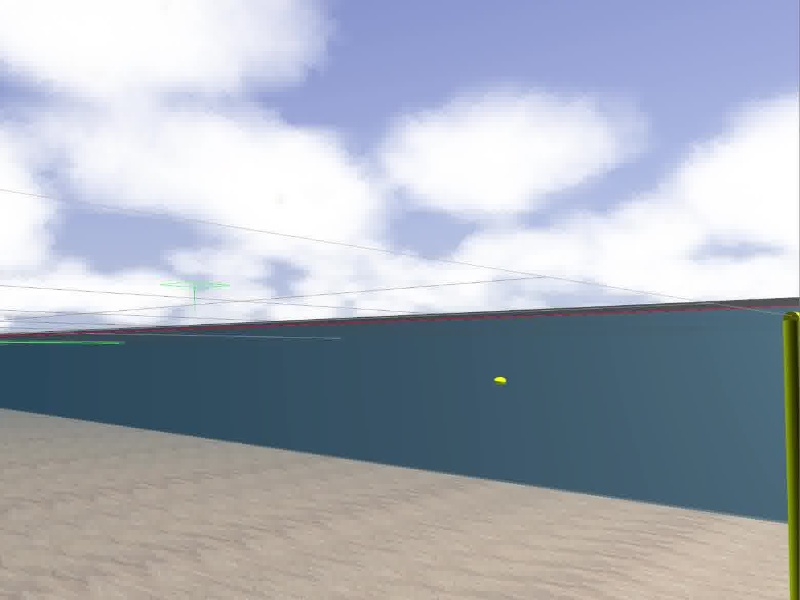gate: (779, 310, 800, 600)
